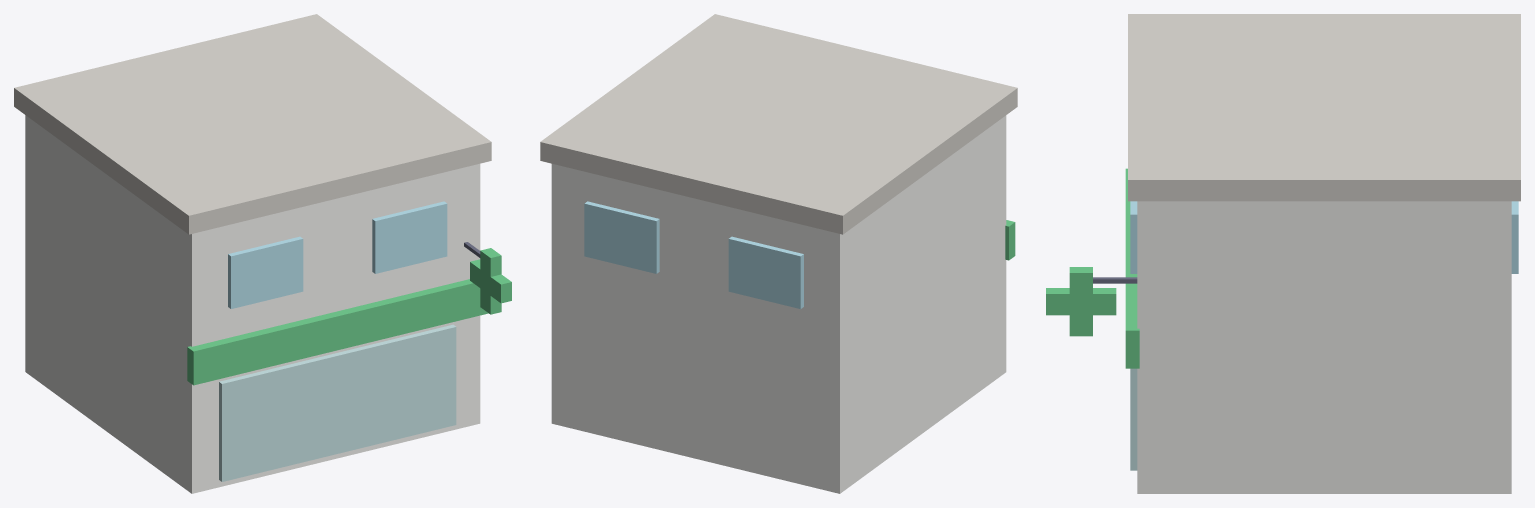
The model's file is pharmacy.glb.
The picture shows the model from 3 angles, left to right: view 1: azimuth 30°, elevation 25°; view 2: azimuth 150°, elevation 25°; view 3: azimuth 270°, elevation 25°; orthographic projection. The views are drawn at different scales.
Visible parts, largest first — view 1: pharmacy_offwhite, pharmacy_roof_flat, pharmacy_glass, pharmacy_green_cross, pharmacy_window; view 2: pharmacy_offwhite, pharmacy_roof_flat, pharmacy_window; view 3: pharmacy_offwhite, pharmacy_roof_flat, pharmacy_green_cross, pharmacy_window, pharmacy_glass.
Part boxes in pixels (x1=…): pharmacy_offwhite: x1=25, y1=115, x2=480, y2=493; pharmacy_roof_flat: x1=14, y1=14, x2=491, y2=234; pharmacy_glass: x1=219, y1=324, x2=456, y2=481; pharmacy_green_cross: x1=187, y1=248, x2=511, y2=385; pharmacy_window: x1=228, y1=201, x2=447, y2=308; pharmacy_offwhite: x1=551, y1=115, x2=1006, y2=493; pharmacy_roof_flat: x1=540, y1=14, x2=1017, y2=234; pharmacy_window: x1=584, y1=201, x2=803, y2=309; pharmacy_offwhite: x1=1137, y1=201, x2=1511, y2=493; pharmacy_roof_flat: x1=1128, y1=14, x2=1520, y2=201; pharmacy_green_cross: x1=1046, y1=168, x2=1139, y2=368; pharmacy_window: x1=1130, y1=201, x2=1518, y2=273; pharmacy_glass: x1=1130, y1=368, x2=1137, y2=470.
Bounding box in the file's own units: 8.4 × 7.5 × 10.15.
